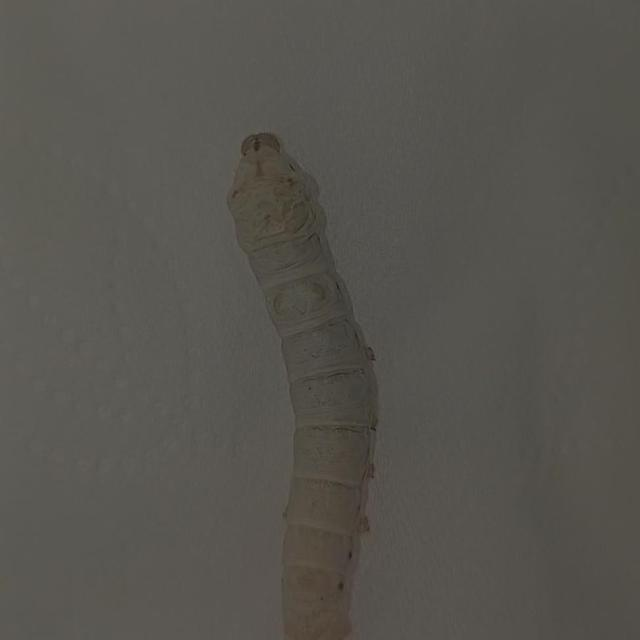Healthy: (205, 120, 411, 640)
